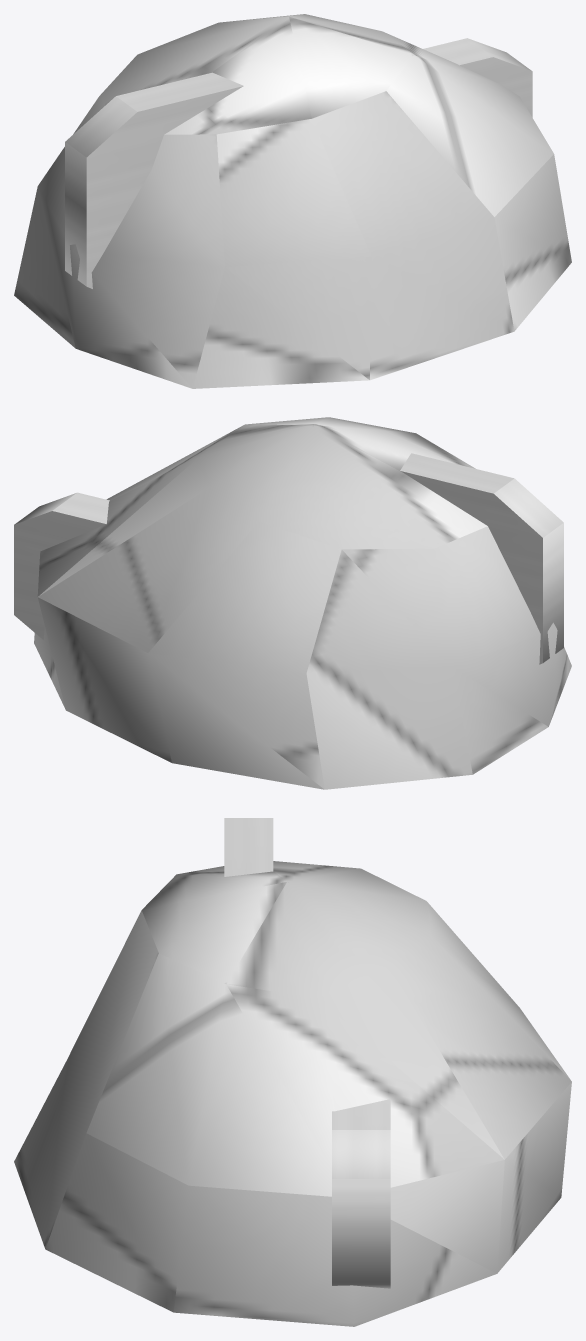
File: slag_1.obj
3 views of the same model, one above another, from view 1: azimuth 30°, elevation 25°; view 2: azimuth 150°, elevation 25°; view 3: azimuth 270°, elevation 25° (orthographic). The views are drawn at different scales.
Visible parts, largest first — view 1: part_000_slag, part_030_slag_metal, part_035_slag_metal; view 2: part_000_slag, part_030_slag_metal, part_035_slag_metal; view 3: part_000_slag, part_035_slag_metal, part_030_slag_metal.
Part boxes in pixels (x1,y1,x2,y2): part_000_slag: [14, 14, 571, 388]; part_030_slag_metal: [65, 72, 243, 288]; part_035_slag_metal: [423, 38, 532, 117]; part_000_slag: [34, 417, 571, 789]; part_030_slag_metal: [400, 453, 563, 664]; part_035_slag_metal: [14, 492, 109, 639]; part_000_slag: [14, 861, 571, 1326]; part_035_slag_metal: [332, 1099, 390, 1288]; part_030_slag_metal: [224, 818, 273, 876].
Size of the model in its own units: 0.6642 by 0.34 by 0.5696.
